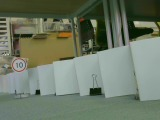speed_10: (10, 57, 28, 73)
